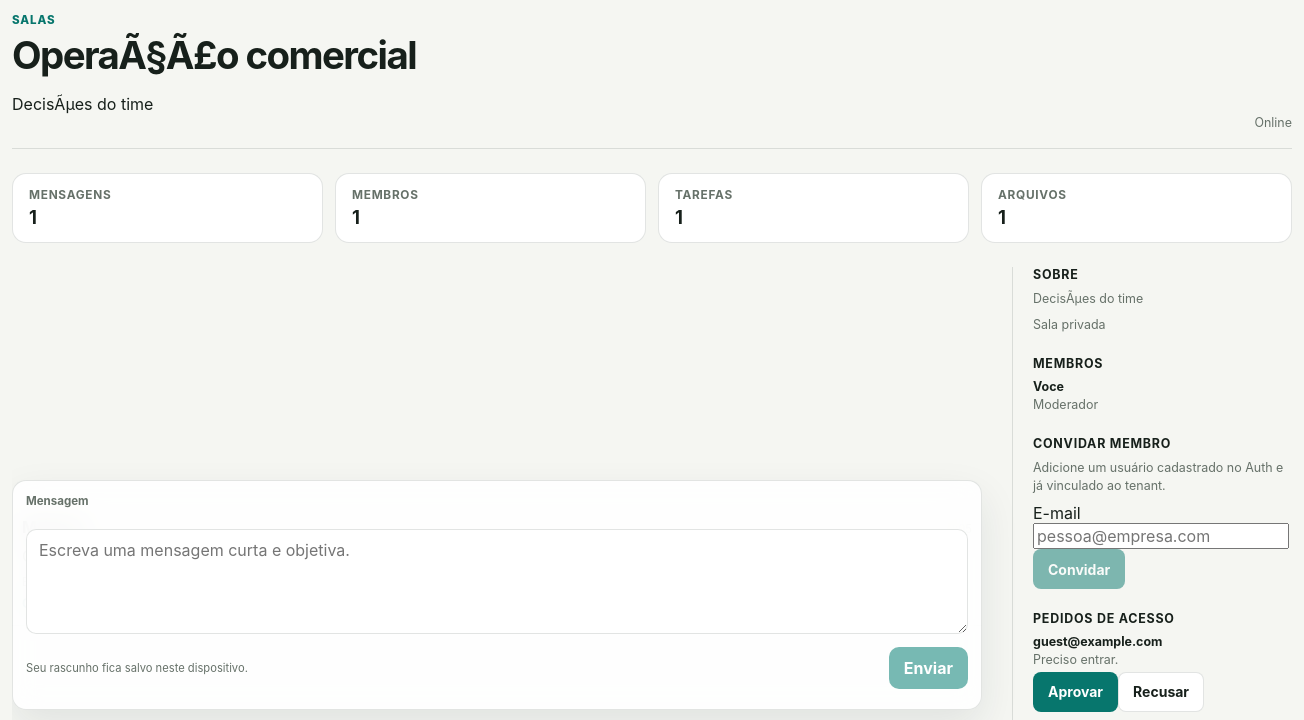
Test: ConversationsWorkspace › preserves the room draft and prevents sending while offline
Expected: the text "Contexto confirmado" is shown, [22, 546, 182, 566]
Type "Continuar depois" into the text box labelled "Mensagem" at (497, 581), box [26, 529, 968, 634]
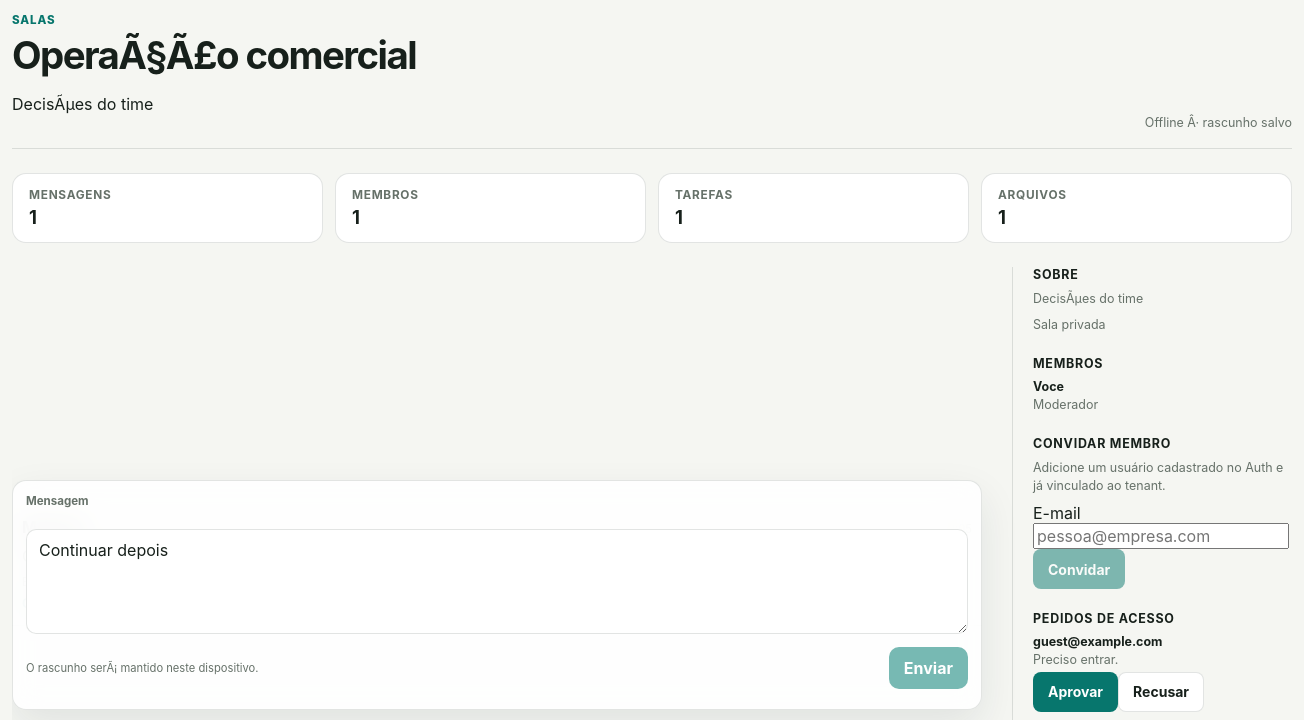
Expected: the button "Enviar" is disabled, [889, 647, 968, 689]
Result: the text "Offline Â· rascunho salvo" is shown at [1145, 115, 1292, 130]
